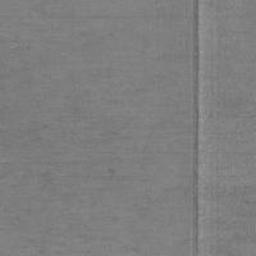Welding line: (189, 0, 201, 256)
